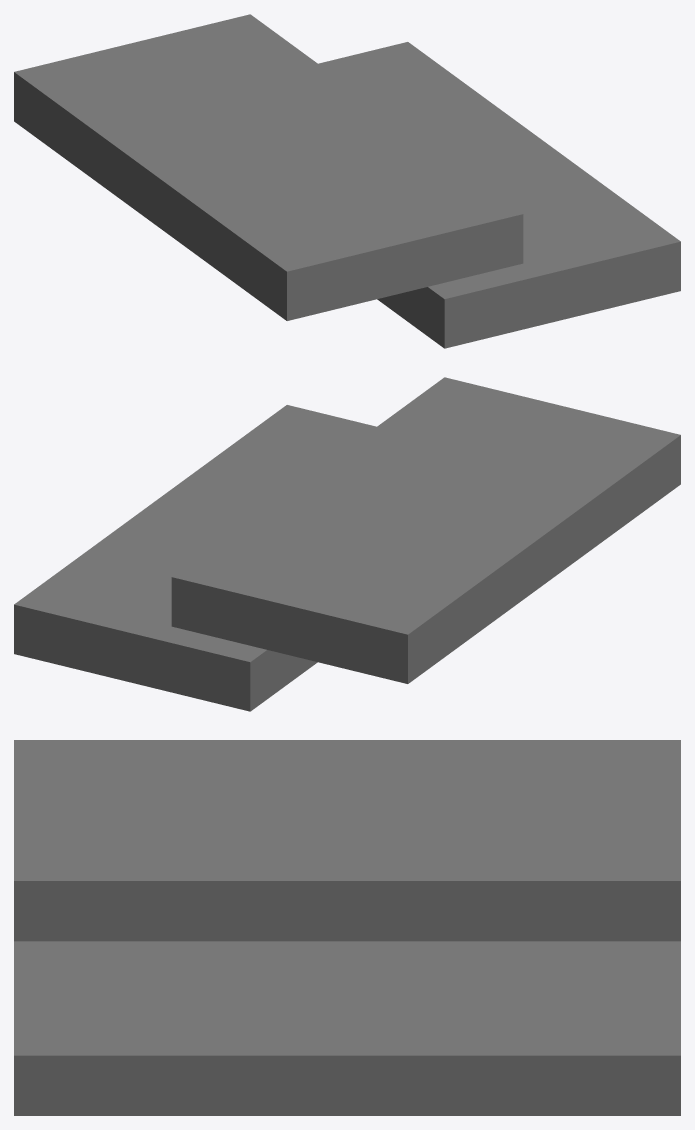
The model's file is Н1_Кромки.glb.
3 renders of one model, top to bottom at view 1: azimuth 30°, elevation 25°; view 2: azimuth 150°, elevation 25°; view 3: azimuth 270°, elevation 25°, orthographic. The views are drawn at different scales.
Visible parts, largest first — view 1: node_id3; view 2: node_id3; view 3: node_id3.
Part boxes in pixels (x1,y1,x2,y2): node_id3: (14, 14, 680, 348); node_id3: (14, 377, 680, 711); node_id3: (14, 740, 680, 1115).
Size of the model in its own units: 0.512 by 0.1434 by 0.6144.
1 material, 1 textured.
